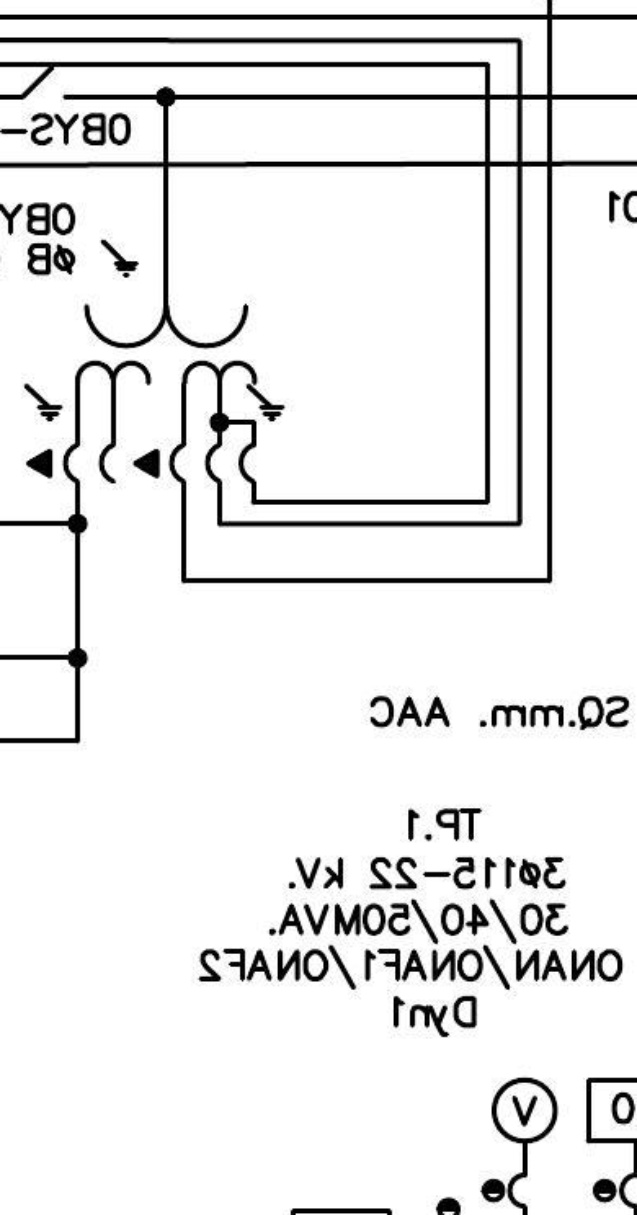115_ds: (21, 67, 70, 101)
115_vt_1p: (23, 238, 287, 485)
v_m: (490, 1076, 560, 1145)
